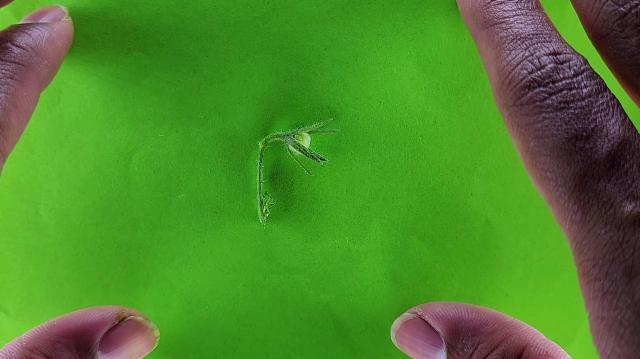Fruit Bud: (276, 128, 332, 175)
